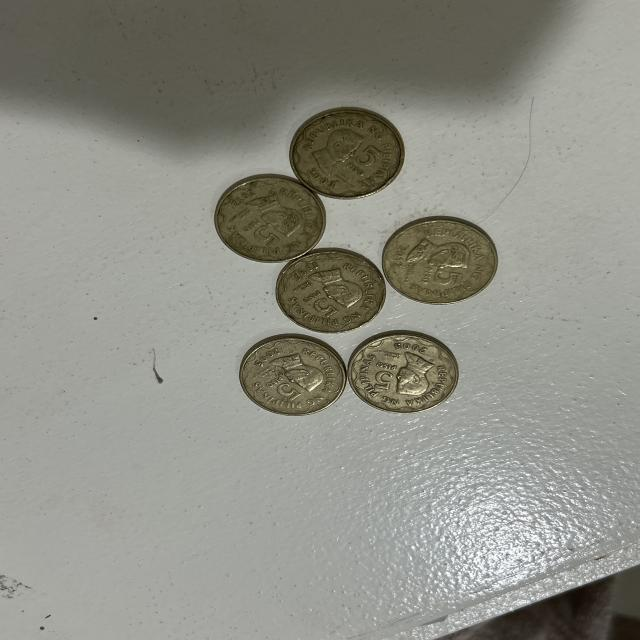5_Old_Front: (413, 266, 472, 299), (256, 372, 306, 408), (298, 289, 343, 328), (237, 218, 282, 253), (344, 139, 382, 178), (371, 354, 400, 400)
